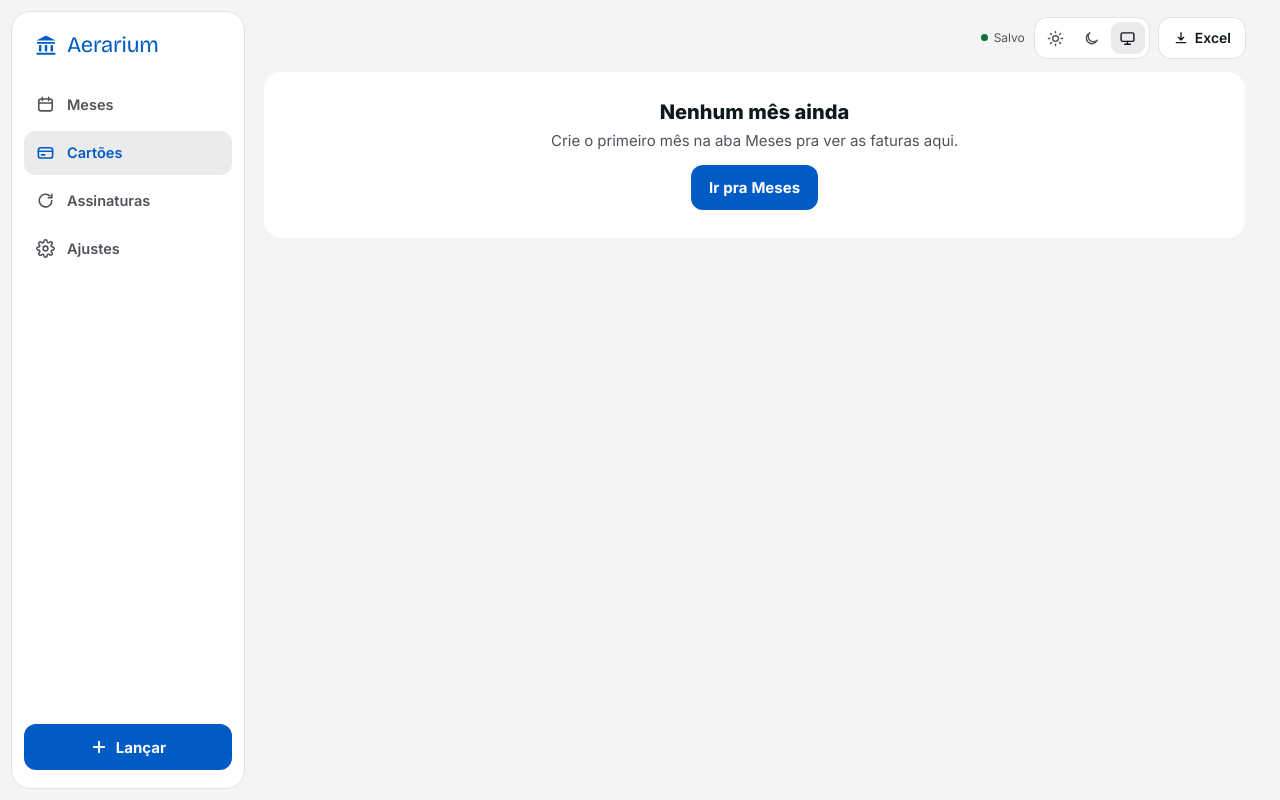
Scenario: modal Lançar › sem nenhum mês, pede pra criar um primeiro
What coordinates should you click on to do the following:
click the button with aria-label "Lançar gasto ou entrada"
I would click on:
 (128, 747)
Its box is [24,724,232,770].
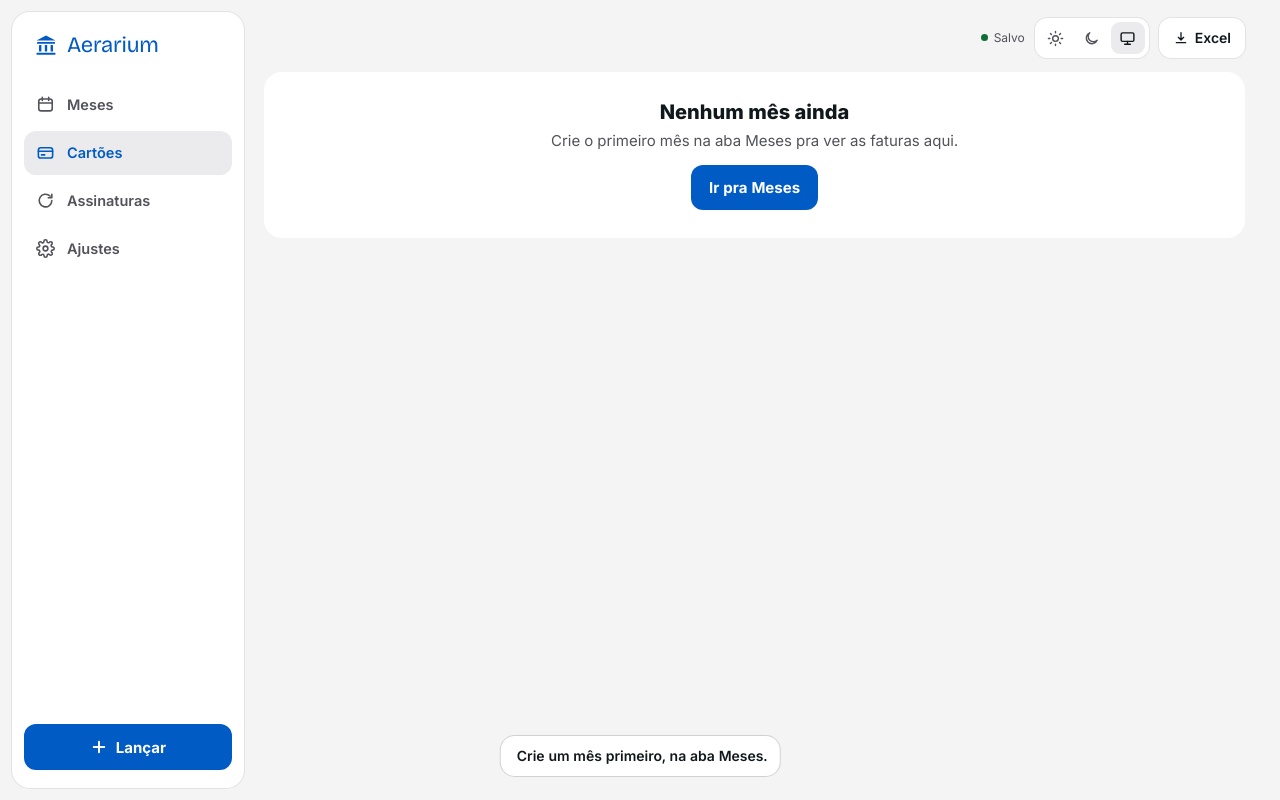
Check: the text "Crie um mês primeiro, na aba Meses." is shown, box [517,746,767,766]
